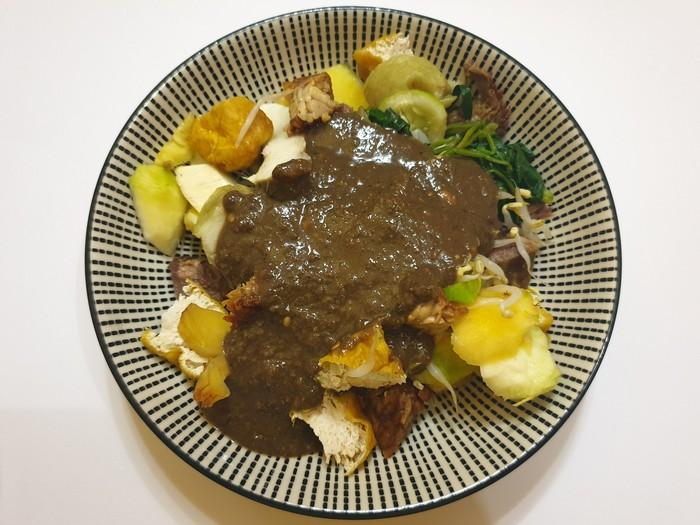rujak_cingur: (131, 31, 562, 472)
